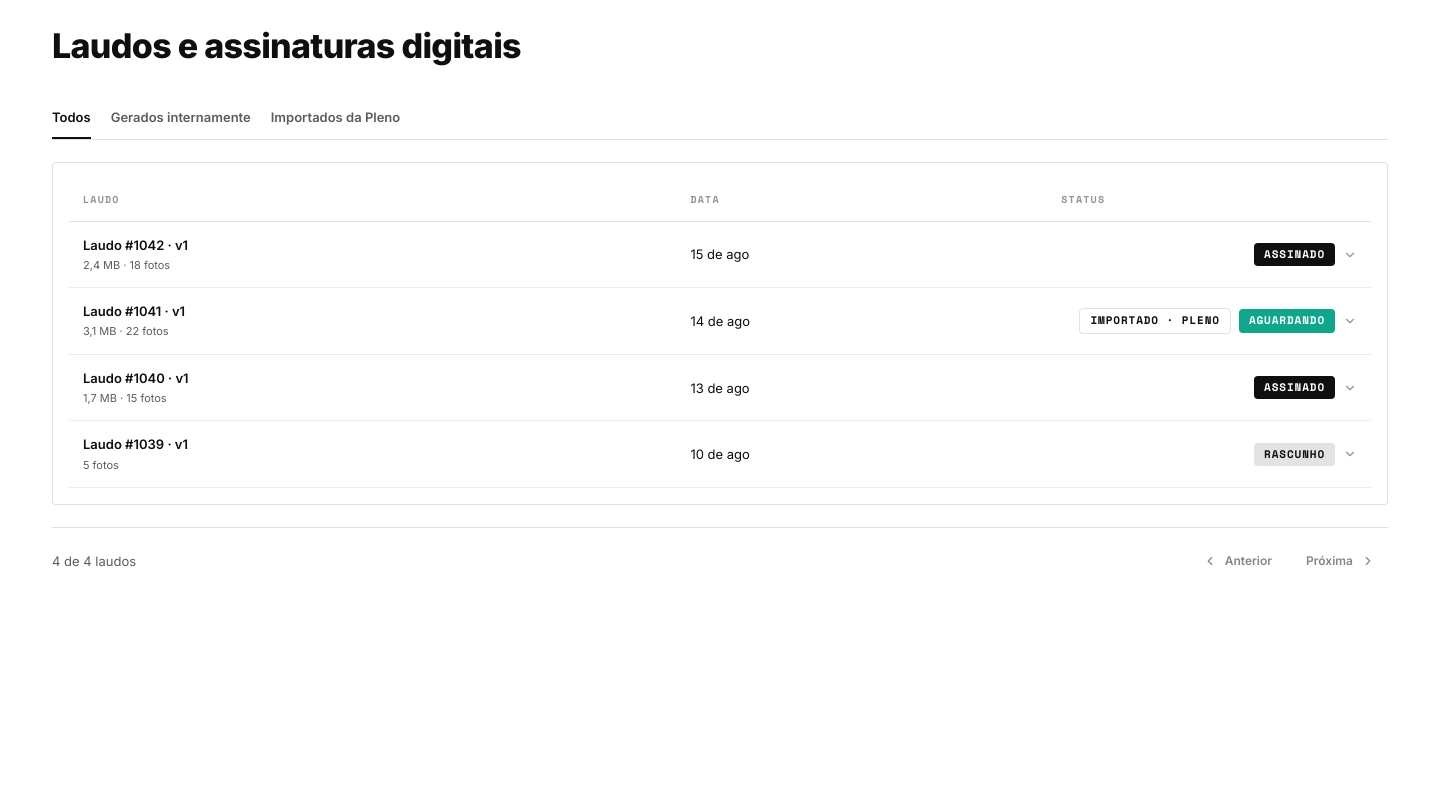
Test case: Laudos Component › should not show signature actions for a draft laudo
Step 1. Click the button "Laudo #1039 · v1" → (720,455), box [69, 422, 1371, 488]
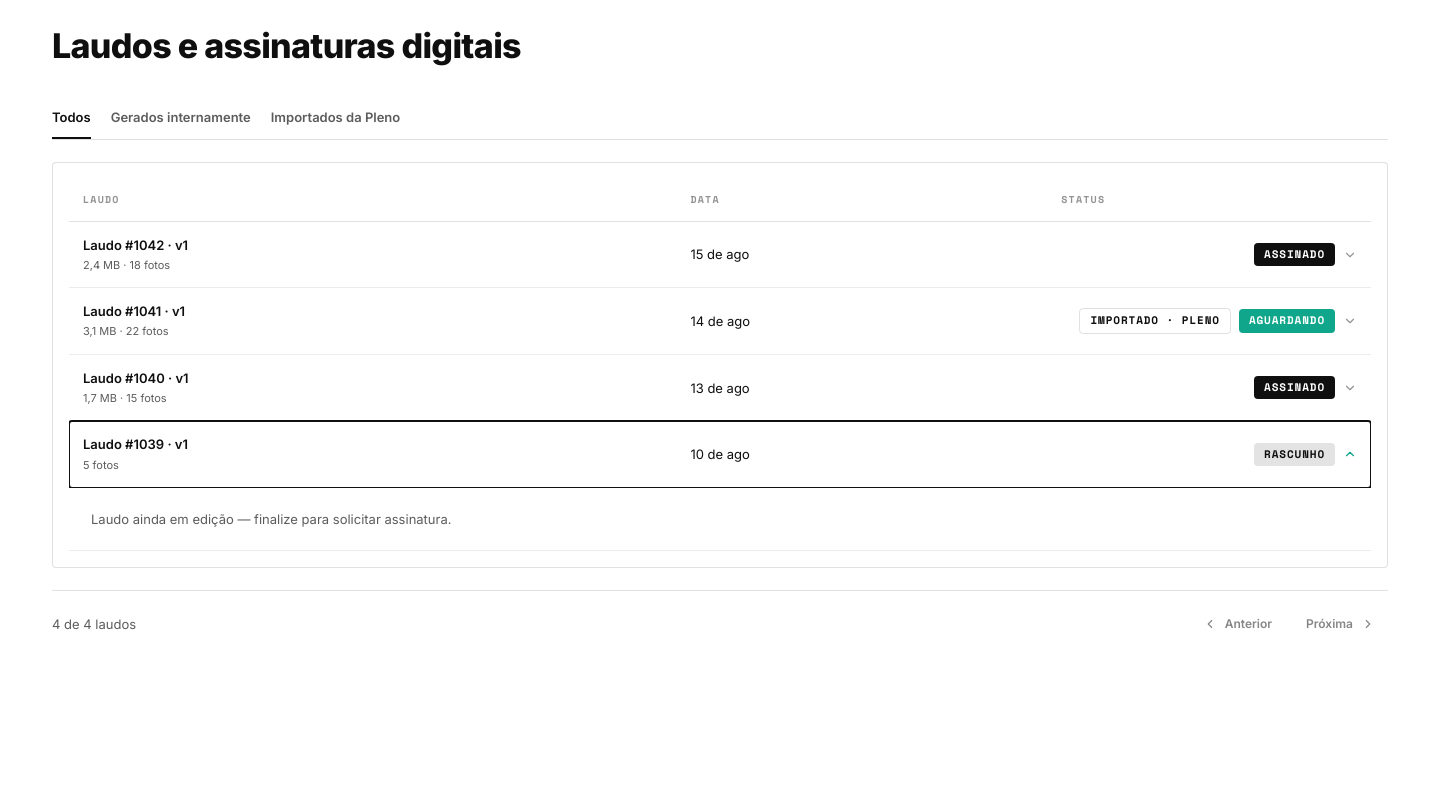
Now the text "Laudo ainda em edição — finalize para solicitar assinatura." is shown, box [91, 511, 452, 527]
